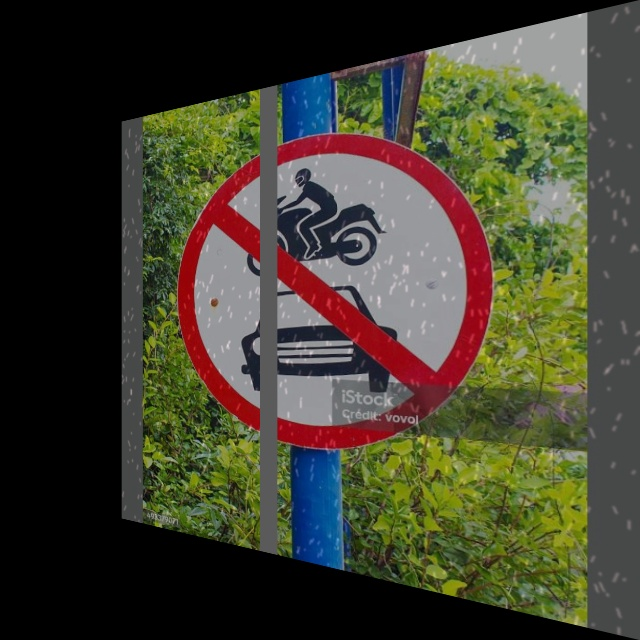All_Motor_Vehicles_Prohibited: (180, 110, 492, 468)
